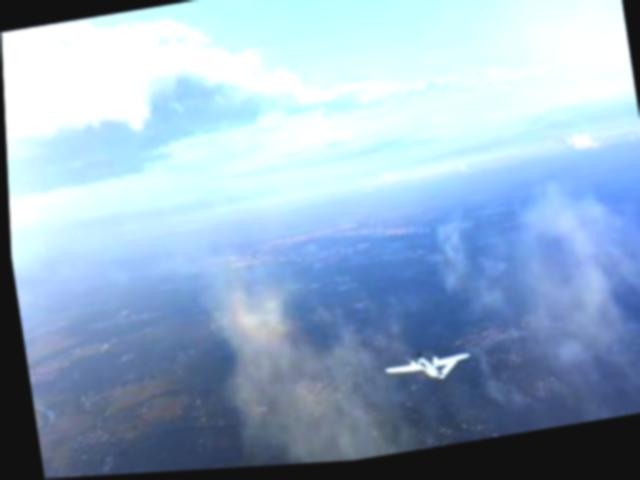uav: (368, 343, 474, 397)
